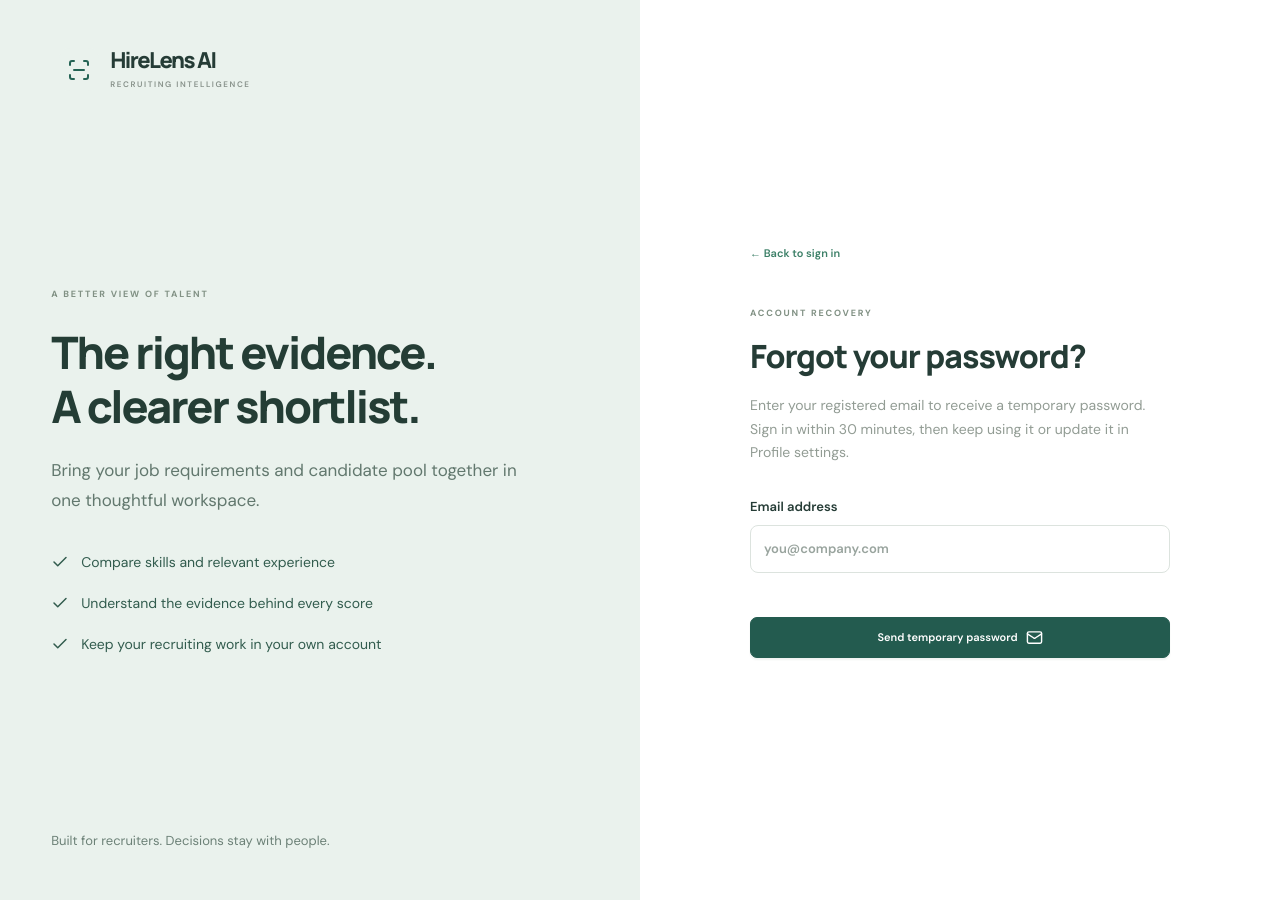
it: clearly reports unconfigured delivery instead of claiming success
Type "test@example.test" into the field labelled "Email address" at (960, 549), box [750, 525, 1170, 573]
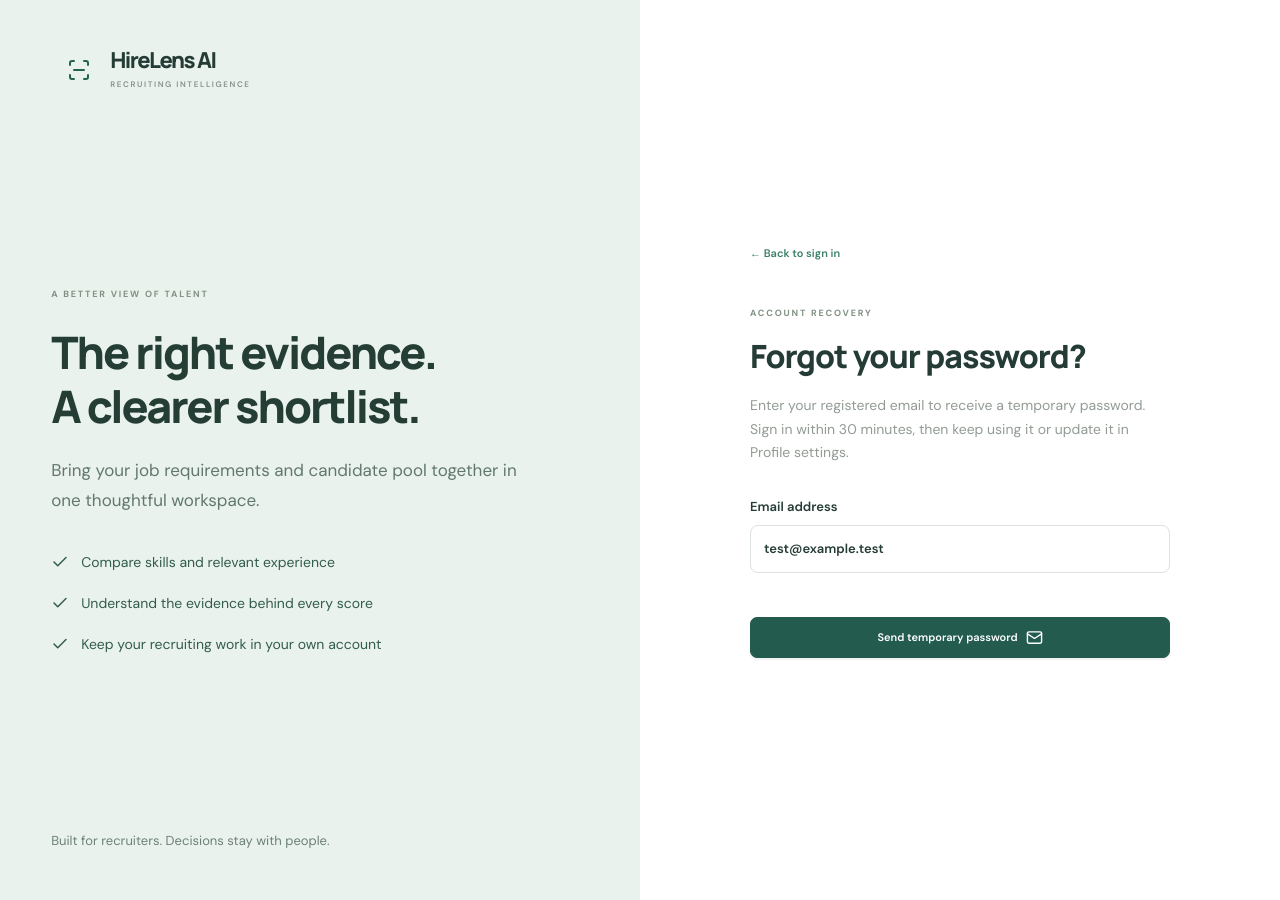
Click the button "Send temporary password" at (960, 637), box [750, 617, 1170, 658]
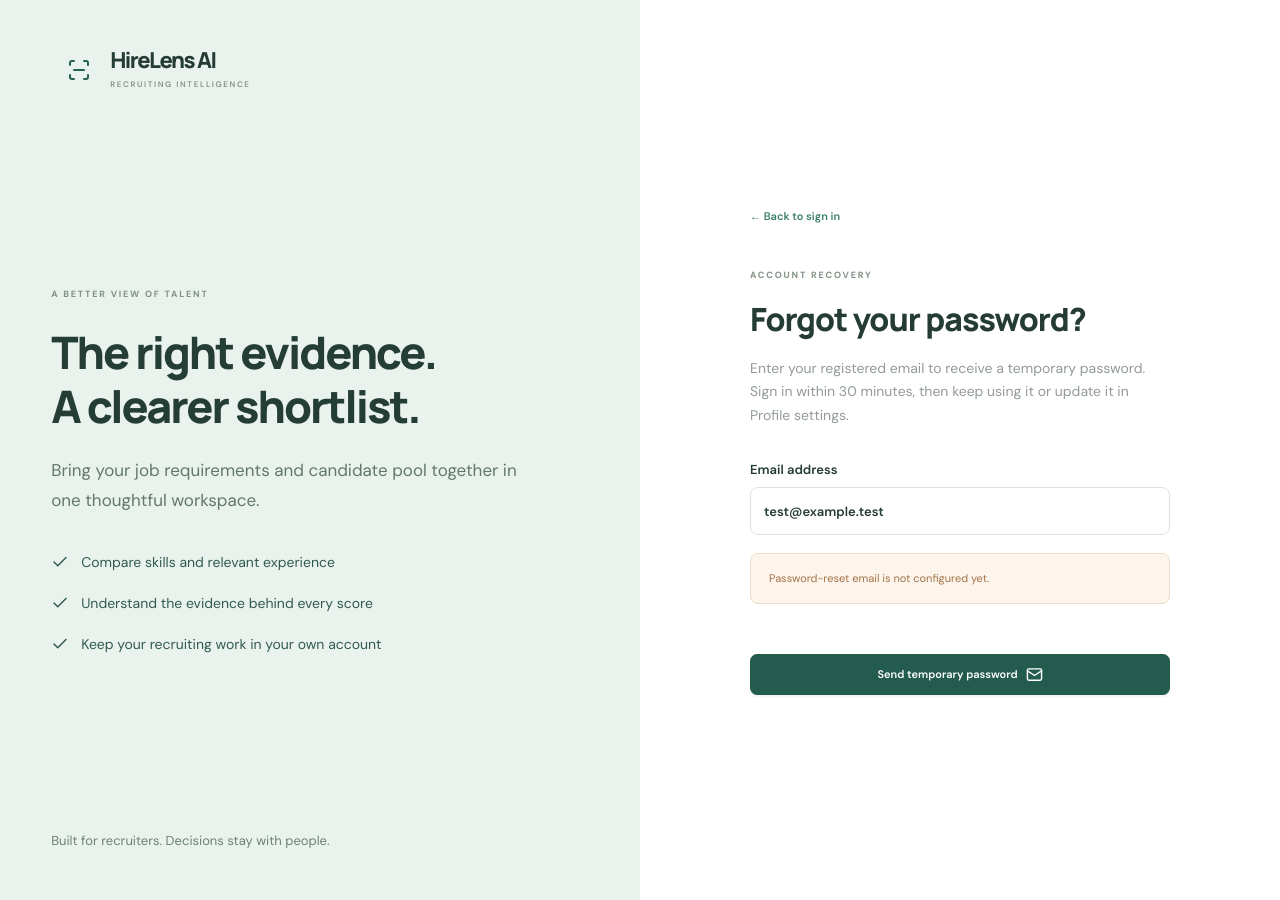
Check: the message shows "not configured", box [769, 571, 989, 585]
